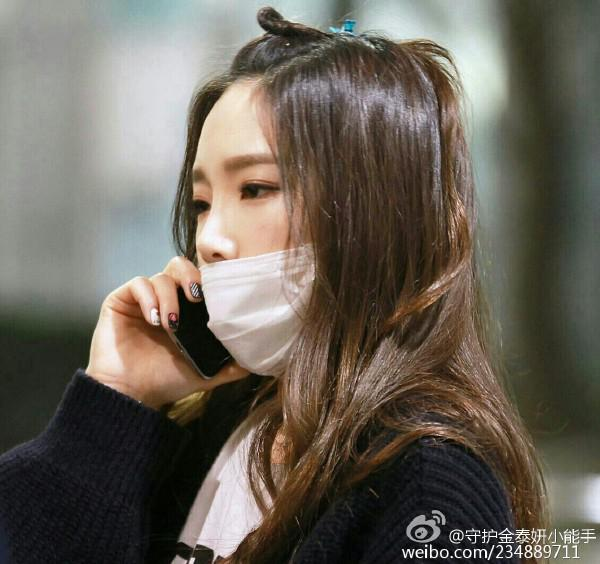WRONG: (192, 130, 320, 379)
